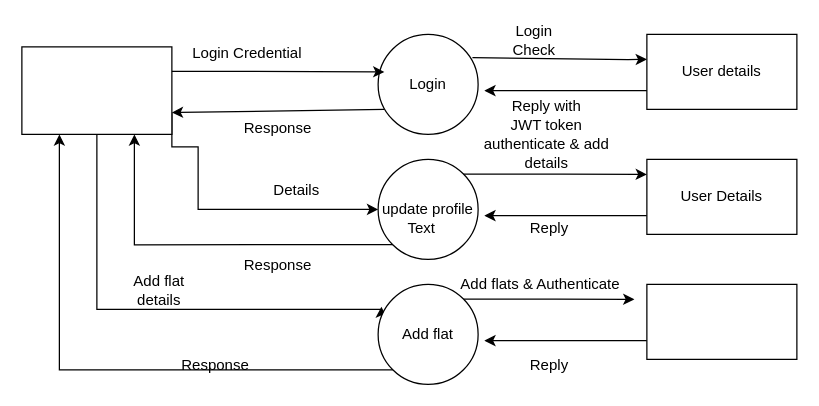
Some shapes in this 819 by 406 pixel diagram are drawn without their labels. The centre of each missing label's shape, as x and y in pixels:
"flat Details" belongs at pixel 721 321.
"User/Admin/ Owner" belongs at pixel 96 90.
